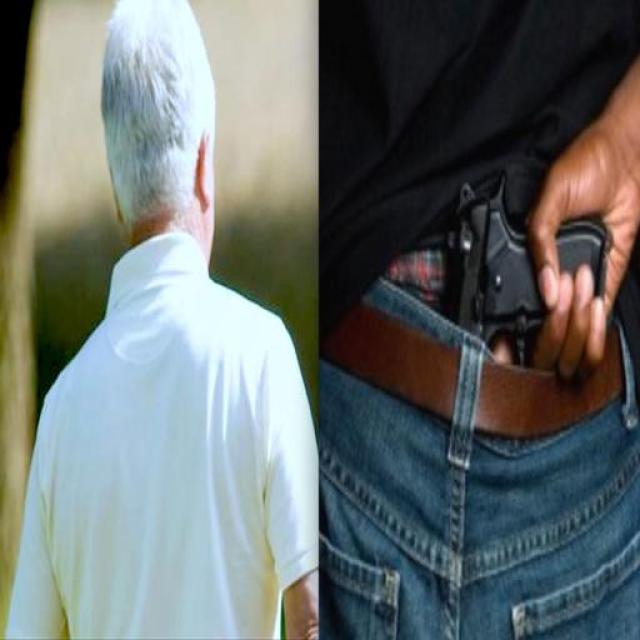pistol: (452, 142, 615, 400)
